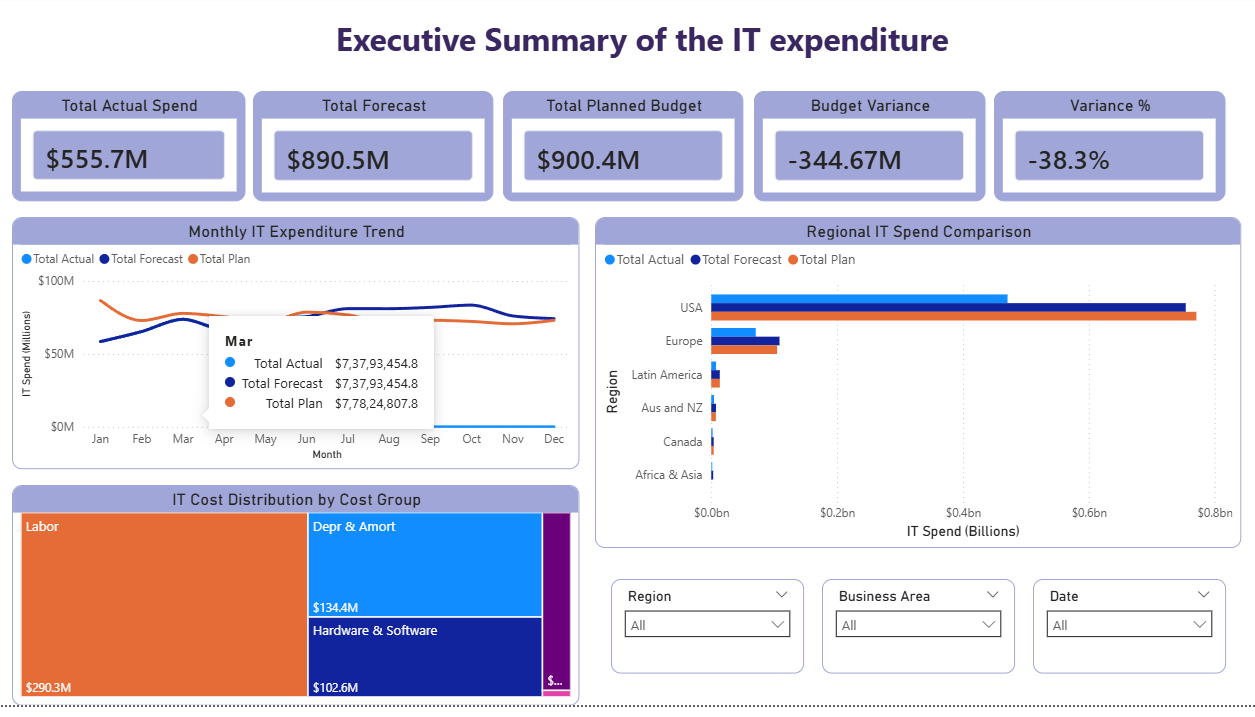

What the dashboard file says about the page in this screenshot:
{"tool":"powerbi","page":{"name":"Executive Summary","canvas":[1280,720],"ordinal":0},"visuals":[{"type":"group","id":"g1","title":"Group 1","box":[16,96,1216,96],"z":0},{"type":"cardVisual","title":"Total Actual Spend","fields":{"Data":["Data.Total Actual"]},"box":[16,96,237.1,112],"z":0,"group":"g1"},{"type":"slicer","fields":{"Values":["Data.Region"]},"box":[624,592,196.1,96],"z":0,"group":"g2"},{"type":"cardVisual","title":"Total Forecast","fields":{"Data":["Data.Total Forecast"]},"box":[260.4,96,244.4,112],"z":1000,"group":"g1"},{"type":"lineChart","title":"Monthly IT Expenditure Trend","fields":{"Category":["Data.Date"],"Y":["Data.Total Actual","Data.Total Forecast","Data.Total Plan"]},"box":[16,224,576,256],"z":1000},{"type":"slicer","fields":{"Values":["Data.Business Area"]},"box":[837.9,592,196.1,96],"z":1000,"group":"g2"},{"type":"cardVisual","title":"Total Planned Budget","fields":{"Data":["Data.Total Plan"]},"box":[514.6,96,244.4,112],"z":2000,"group":"g1"},{"type":"clusteredBarChart","title":"Regional IT Spend Comparison","fields":{"Category":["Data.Region"],"Y":["Data.Total Actual","Data.Total Forecast","Data.Total Plan"]},"box":[608,224,656,336],"z":2000},{"type":"slicer","fields":{"Values":["Data.Date"]},"box":[1051.9,592,196.1,96],"z":2000,"group":"g2"},{"type":"cardVisual","title":"Variance %","fields":{"Data":["Data.Variance %"]},"box":[1013.2,96,234.6,112],"z":3000,"group":"g1"},{"type":"treemap","title":"IT Cost Distribution by Cost Group","fields":{"Group":["Data.Cost Element Group"],"Values":["Data.Total Actual"]},"box":[16,496,576,224],"z":3000},{"type":"cardVisual","title":"Budget Variance","fields":{"Data":["Data.Actual vs Plan Variance"]},"box":[768.8,96,234.6,112],"z":4000,"group":"g1"},{"type":"group","id":"g2","title":"Group 2","box":[624,592,624,96],"z":4000},{"type":"textbox","box":[336,16,640,64],"z":4001}]}

Visuals, with their boxes in screenshot pixels (x1, y1, x2, y2), scaled from the page's 1280x720 canvas onto the 1255x717 screenshot:
"Group 1" group: box(16, 96, 1208, 191)
"Total Actual Spend" cardVisual: box(16, 96, 248, 207)
slicer - Data.Region: box(612, 590, 804, 685)
"Total Forecast" cardVisual: box(255, 96, 495, 207)
"Monthly IT Expenditure Trend" lineChart: box(16, 223, 580, 478)
slicer - Data.Business Area: box(822, 590, 1014, 685)
"Total Planned Budget" cardVisual: box(505, 96, 744, 207)
"Regional IT Spend Comparison" clusteredBarChart: box(596, 223, 1239, 558)
slicer - Data.Date: box(1031, 590, 1224, 685)
"Variance %" cardVisual: box(993, 96, 1223, 207)
"IT Cost Distribution by Cost Group" treemap: box(16, 494, 580, 716)
"Budget Variance" cardVisual: box(754, 96, 984, 207)
"Group 2" group: box(612, 590, 1224, 685)
textbox: box(329, 16, 957, 80)
